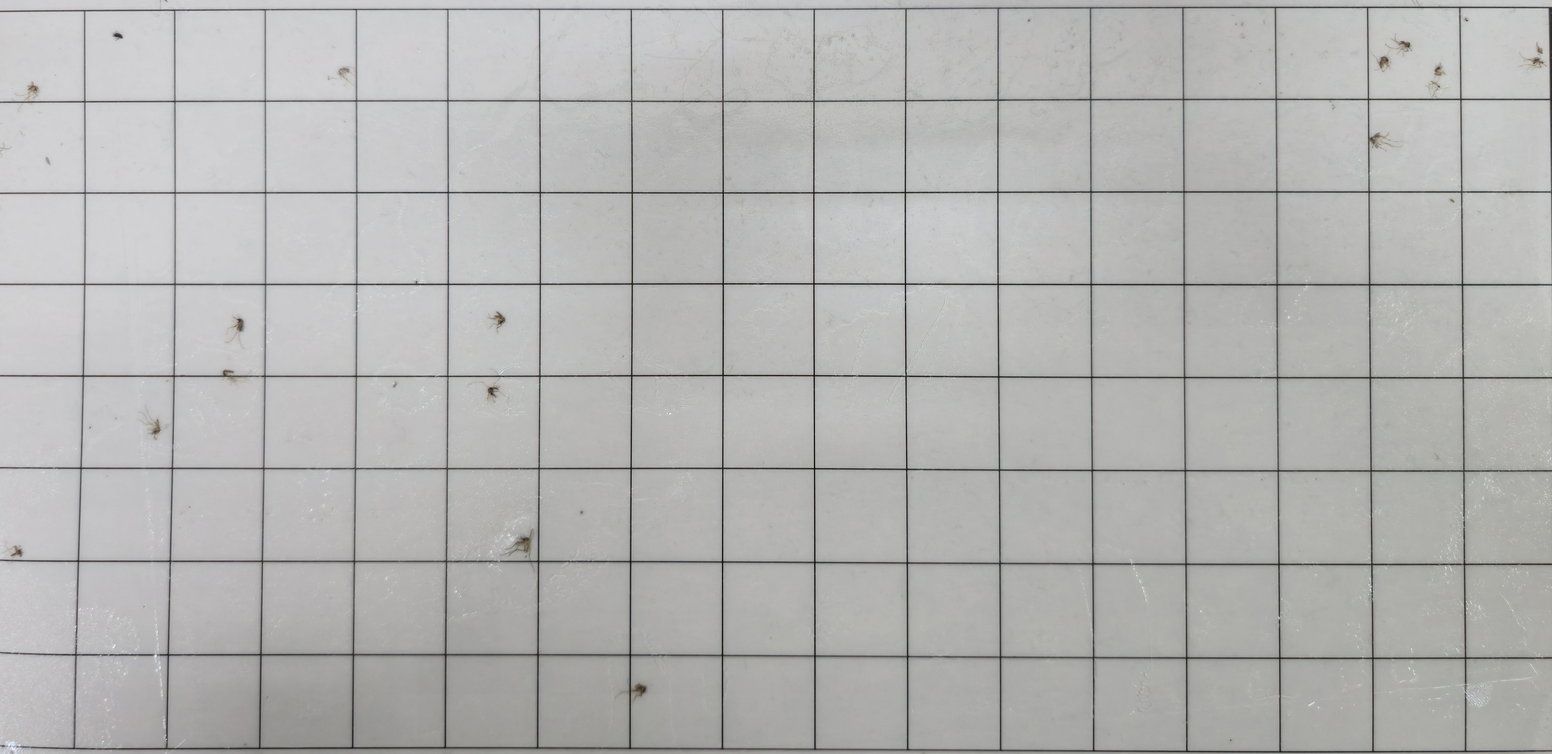test: (513, 530, 535, 557), (148, 415, 167, 439), (625, 680, 649, 699), (229, 313, 249, 335), (491, 310, 509, 331), (1366, 131, 1386, 149), (334, 64, 351, 83), (1374, 55, 1393, 71), (484, 383, 500, 400), (1529, 54, 1546, 70), (10, 542, 25, 560), (24, 82, 40, 97), (1397, 36, 1411, 53), (221, 366, 235, 382), (111, 28, 126, 42), (1432, 62, 1445, 77), (1534, 41, 1546, 55), (1462, 13, 1473, 25)
